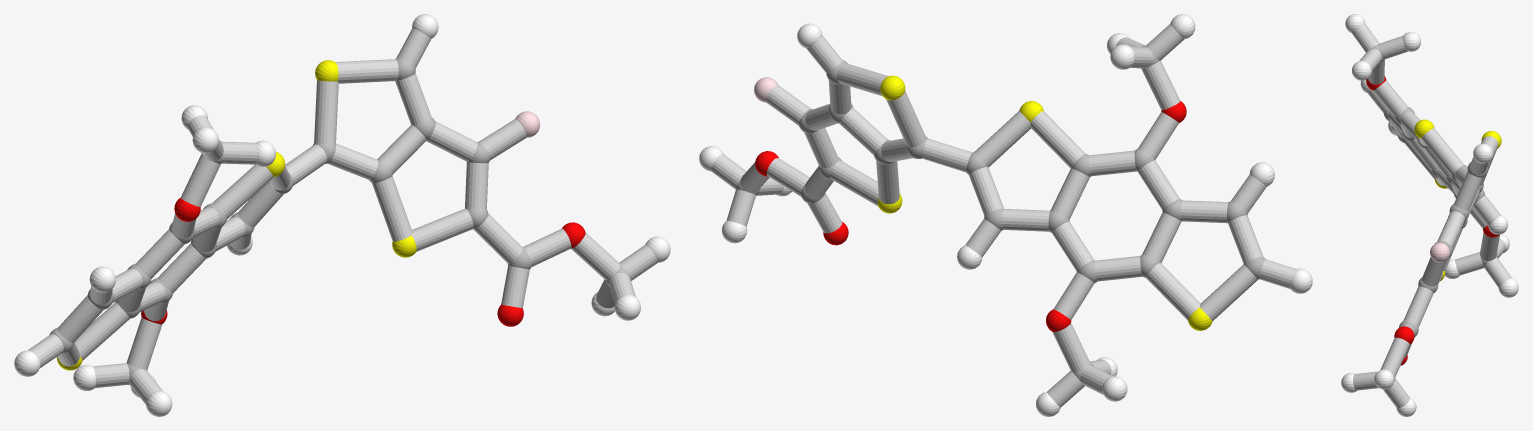
File: Dimethoxy_Benzodithiophene_Phi_20_Theta_120_Methylcarbonyl_3_Fluoro_Thienothiophene.glb
The picture shows the model from 3 angles, left to right: view 1: azimuth 30°, elevation 25°; view 2: azimuth 150°, elevation 25°; view 3: azimuth 270°, elevation 25°; orthographic projection. The views are drawn at different scales.
Parts seen in each view (by area): view 1: grp15205, grp8689, grp1, grp13395, grp7241; view 2: grp15205, grp8689, grp1, grp7241, grp13395; view 3: grp15205, grp8689, grp1, grp13395, grp7241, grp14843.
Part boxes in pixels (x1,y1,x2,y2): grp15205: (27, 28, 657, 404); grp8689: (14, 14, 670, 416); grp1: (49, 58, 627, 385); grp13395: (141, 197, 585, 326); grp7241: (56, 60, 416, 370); grp15205: (710, 23, 1296, 407); grp8689: (699, 14, 1312, 416); grp1: (736, 45, 1265, 380); grp7241: (877, 75, 1212, 330); grp13395: (755, 101, 1186, 331); grp15205: (1351, 23, 1511, 408); grp8689: (1341, 14, 1518, 416); grp1: (1371, 44, 1497, 381); grp13395: (1366, 76, 1499, 365); grp7241: (1414, 119, 1501, 281); grp14843: (1430, 242, 1449, 262).
Bounding box in the file's own units: 16.82 × 8.79 × 5.29.
